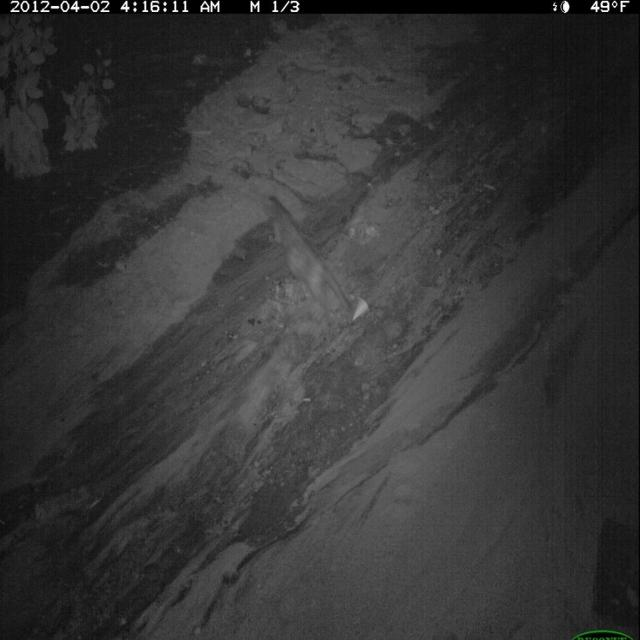cat: (261, 191, 362, 332)
